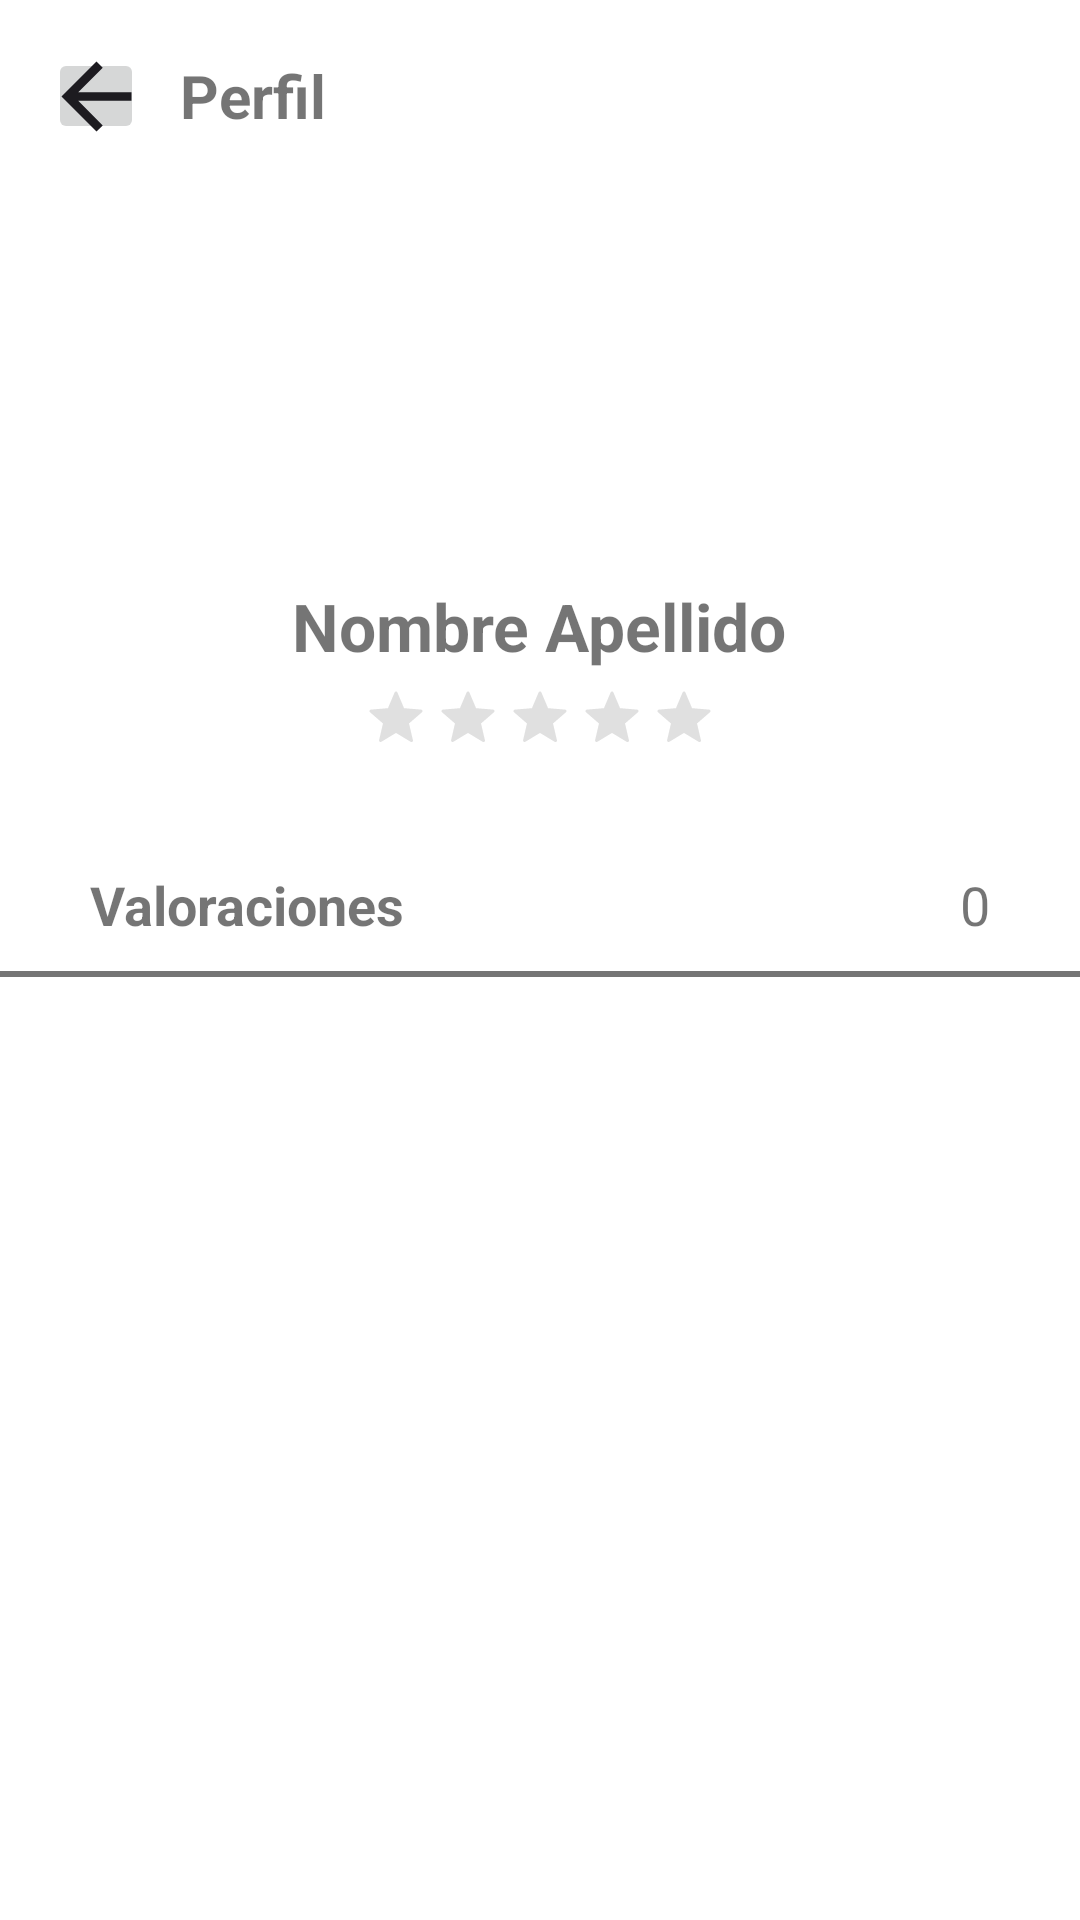

Named icons in this screenshot (1080w x 1920h) and their centers, (x=x, y=y):
back: (x=96, y=96)
star: (x=396, y=717), (x=468, y=717), (x=540, y=717), (x=612, y=717), (x=684, y=717)
